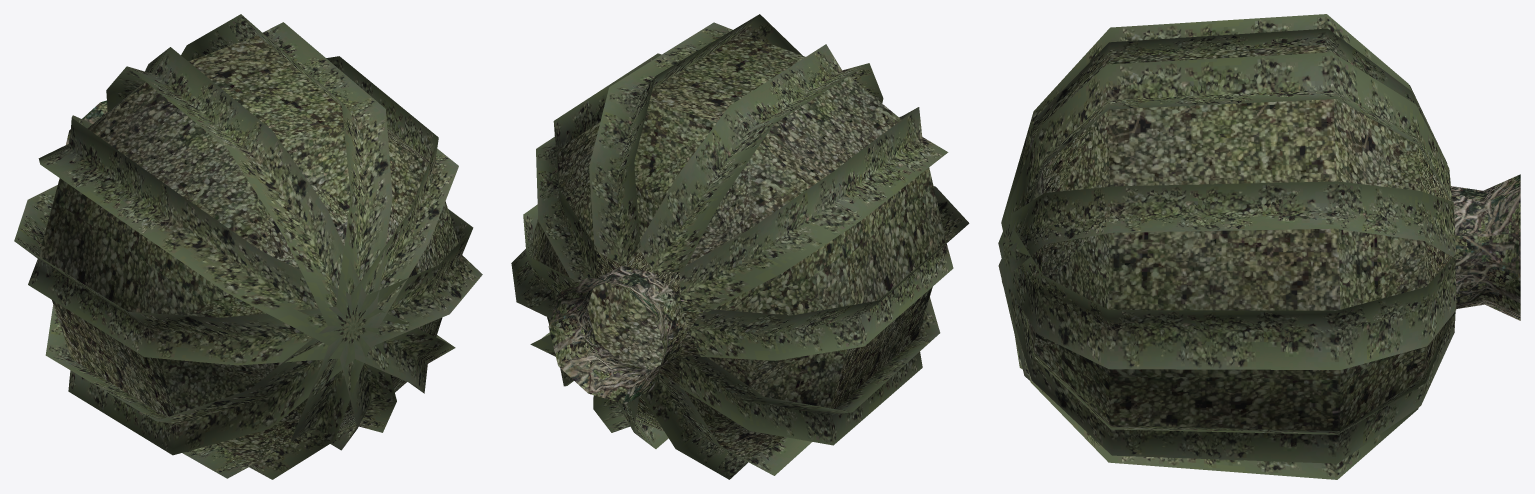
Rendered from foliage_hedge_gumdrop_1_LOD1.obj.
3 views of the same model, side by side, from view 1: azimuth 30°, elevation 25°; view 2: azimuth 150°, elevation 25°; view 3: azimuth 270°, elevation 25° (orthographic). The views are drawn at different scales.
Parts seen in each view (by area): view 1: mtl_hedges_noshadow, mtl_hedges_noalpha; view 2: mtl_hedges_noshadow, mtl_hedges_noalpha; view 3: mtl_hedges_noshadow, mtl_hedges_noalpha.
Boxes of the visible parts, box(x1,y1,x2,y2) form: mtl_hedges_noshadow: box(14, 14, 482, 479); mtl_hedges_noalpha: box(39, 35, 458, 463); mtl_hedges_noshadow: box(511, 14, 969, 479); mtl_hedges_noalpha: box(531, 33, 946, 459); mtl_hedges_noshadow: box(998, 14, 1456, 479); mtl_hedges_noalpha: box(1027, 44, 1520, 430).
Bounding box in the file's own units: 120 × 122 × 134.
